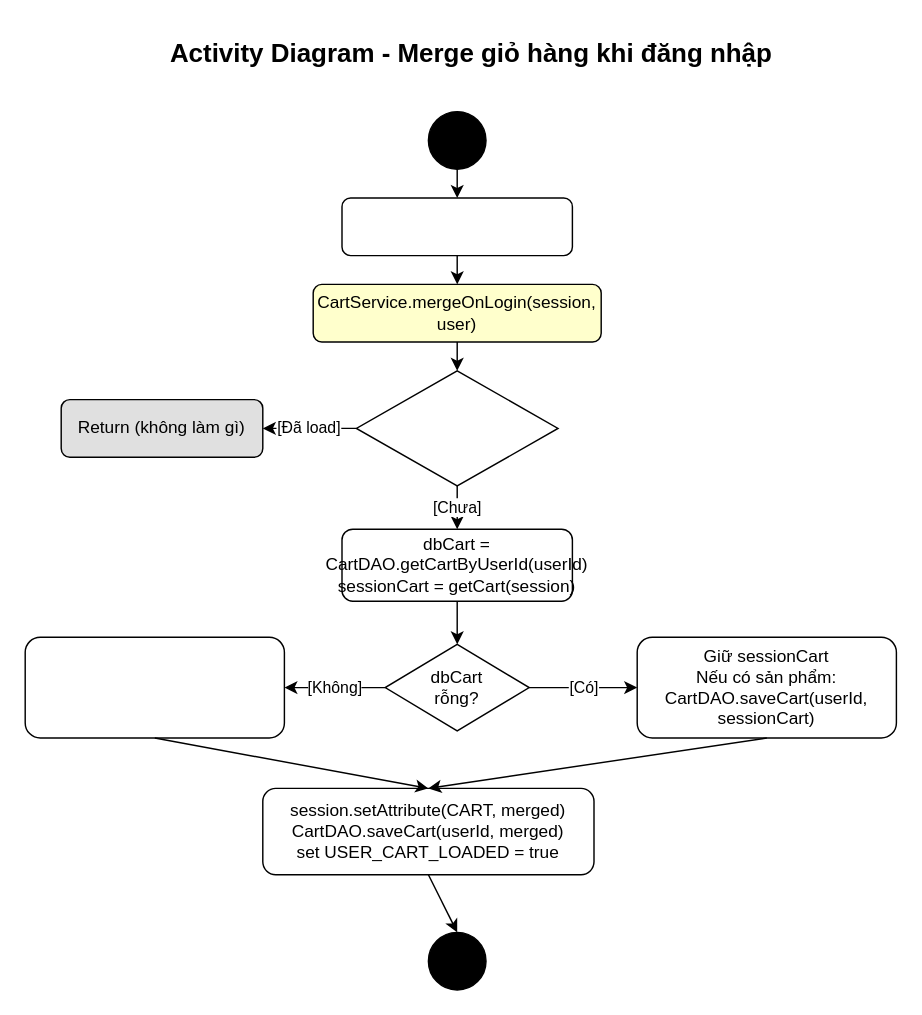
The diagram is 922 pixels wide and 1015 high, and some of its shapes have lost their labels. The shapes that lost their labels are listed below. From the top down, each one's centre as x and y in pixels, then its label:
(456,226): User đăng nhập thành công
(456,427): Đã merge chưa (USER_CART_LOADED)?
(154,687): merged = mergeCarts(sessionCart, dbCart) Cộng quantity theo variantId
